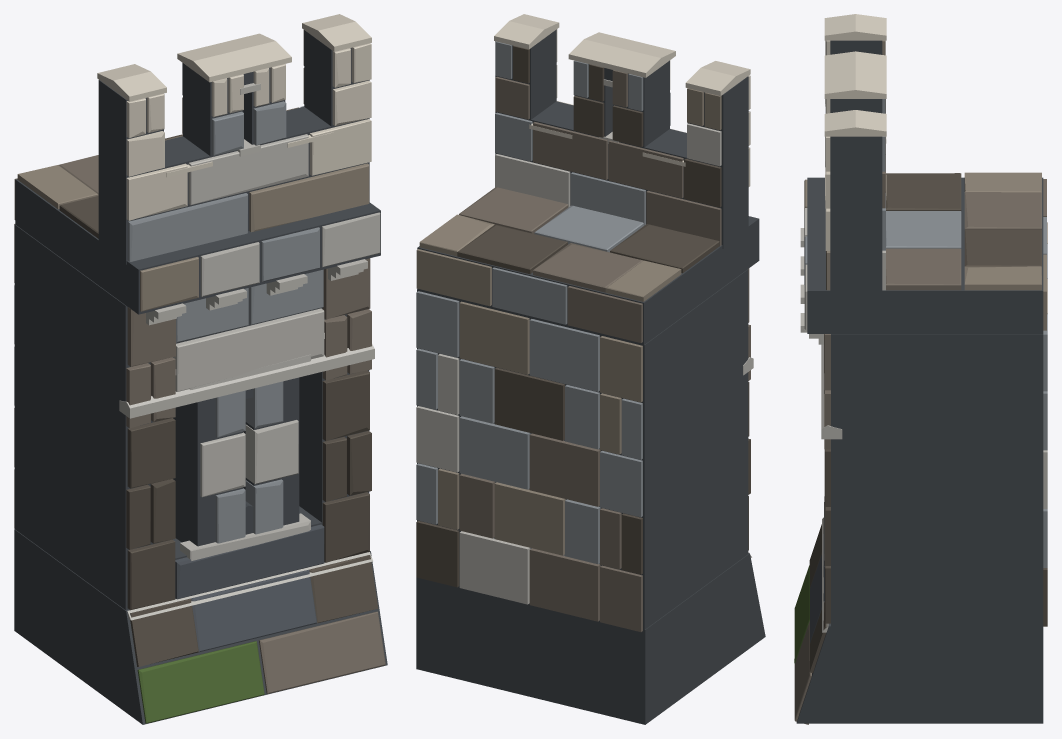
The model's file is mdvl_castle_curtain_slit_01.glb.
The picture shows the model from 3 angles, left to right: view 1: azimuth 30°, elevation 25°; view 2: azimuth 150°, elevation 25°; view 3: azimuth 270°, elevation 25°; orthographic projection. The views are drawn at different scales.
Visible parts, largest first — view 1: mdvl_castle_curtain_slit_01; view 2: mdvl_castle_curtain_slit_01; view 3: mdvl_castle_curtain_slit_01.
Boxes of the visible parts, left/top/right/bottom form: mdvl_castle_curtain_slit_01: left=14, top=14, right=387, bottom=724; mdvl_castle_curtain_slit_01: left=416, top=14, right=765, bottom=724; mdvl_castle_curtain_slit_01: left=794, top=14, right=1047, bottom=724.
Bounding box in the file's own units: 2.02 × 4.92 × 1.89.
1 material, 1 textured.
